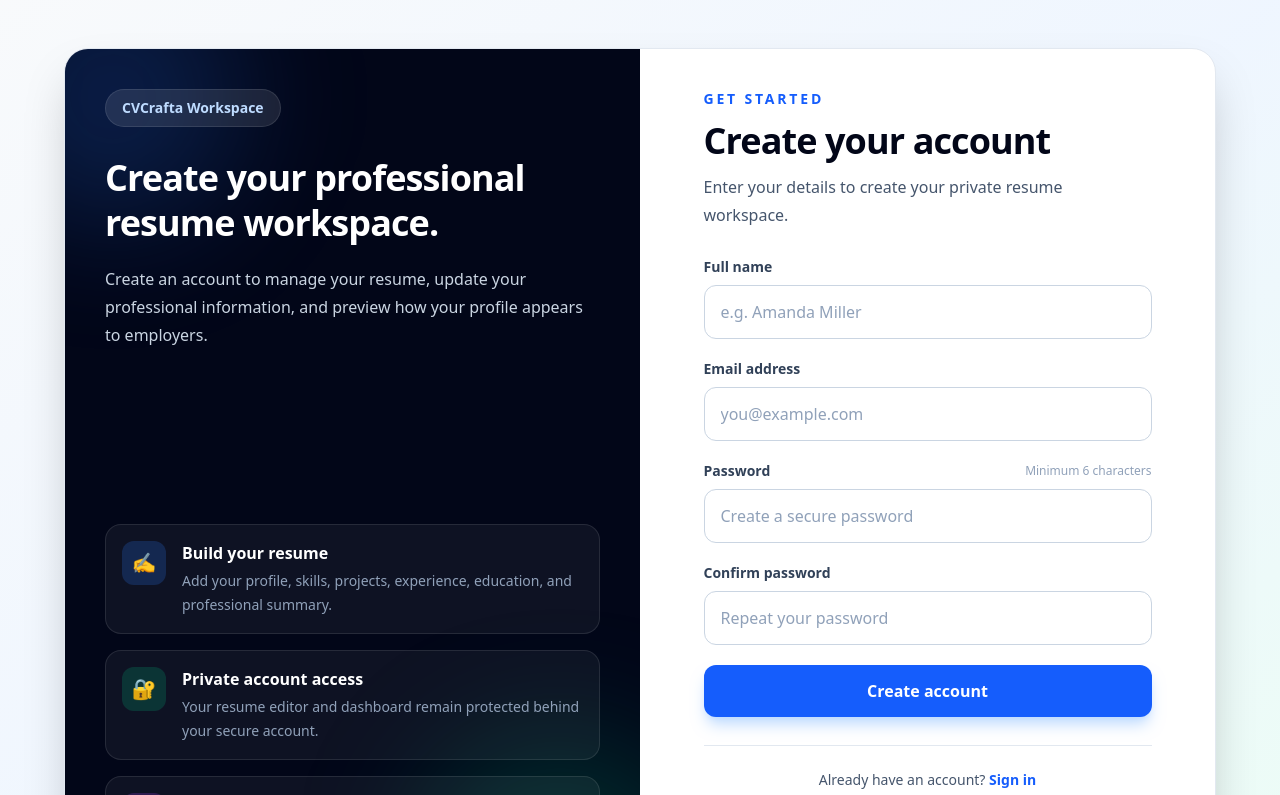
Test case: RegisterPage › opens confirmation recovery when initial delivery does not arrive
This screenshot has width=1280, height=795.
Type "Test User" into the field labelled "Full name" at (928, 312), box [704,285,1152,339]
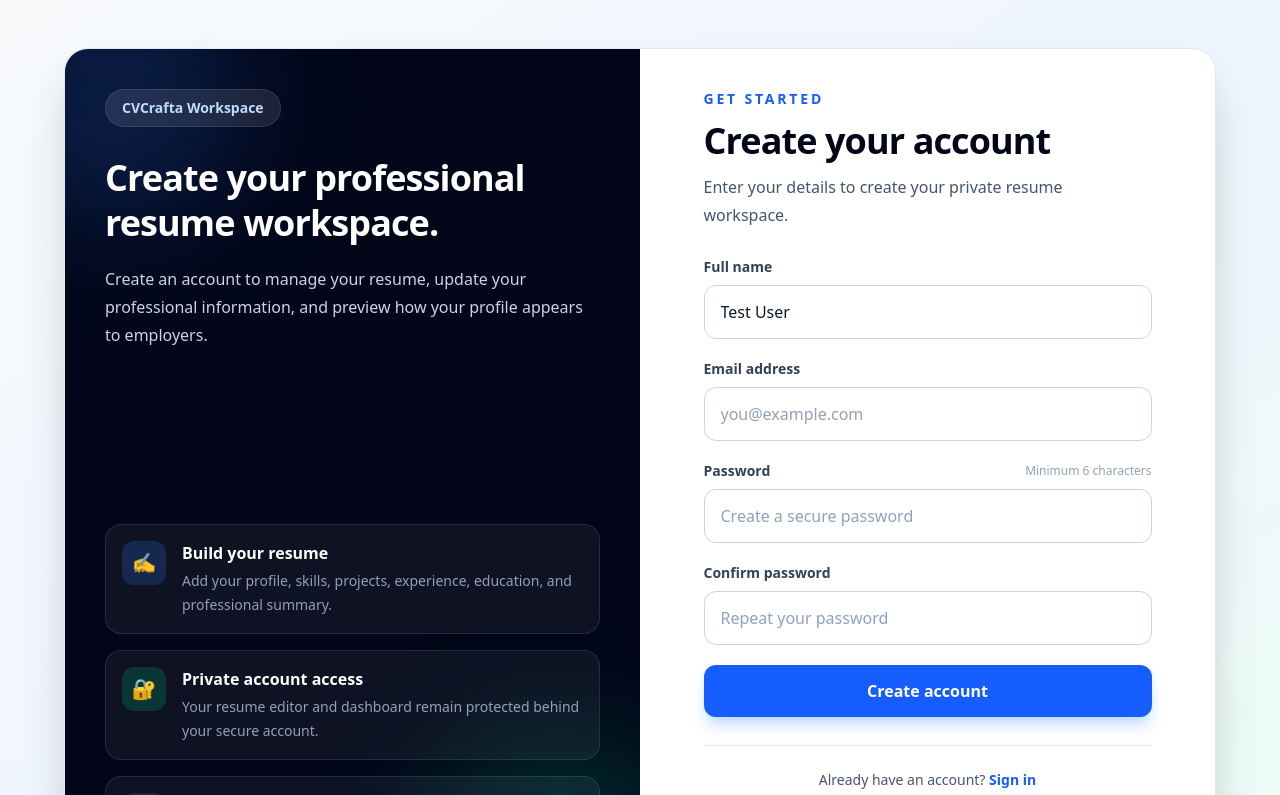
Type "user@example.com" into the field labelled "Email address" at (928, 414), box [704,387,1152,441]
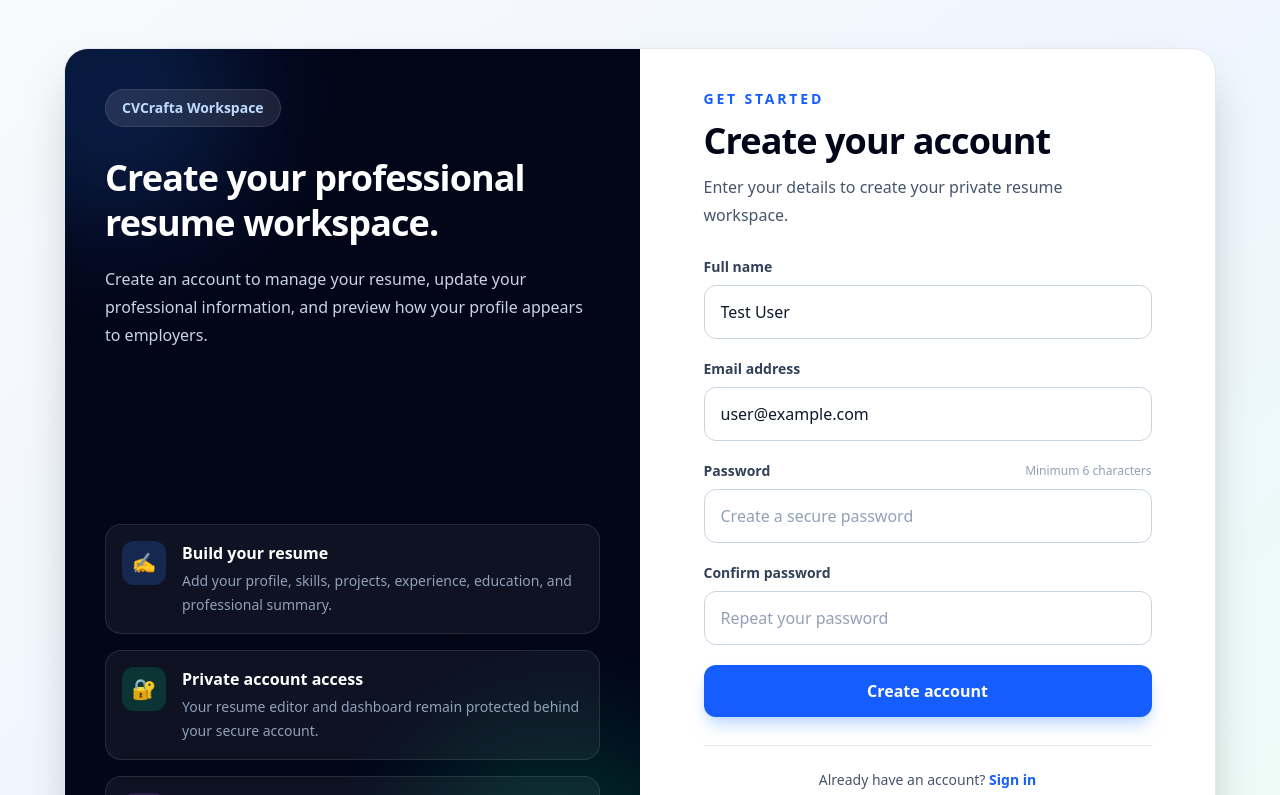
Type "Password123!" into the password field labelled "Password" at (928, 516), box [704,489,1152,543]
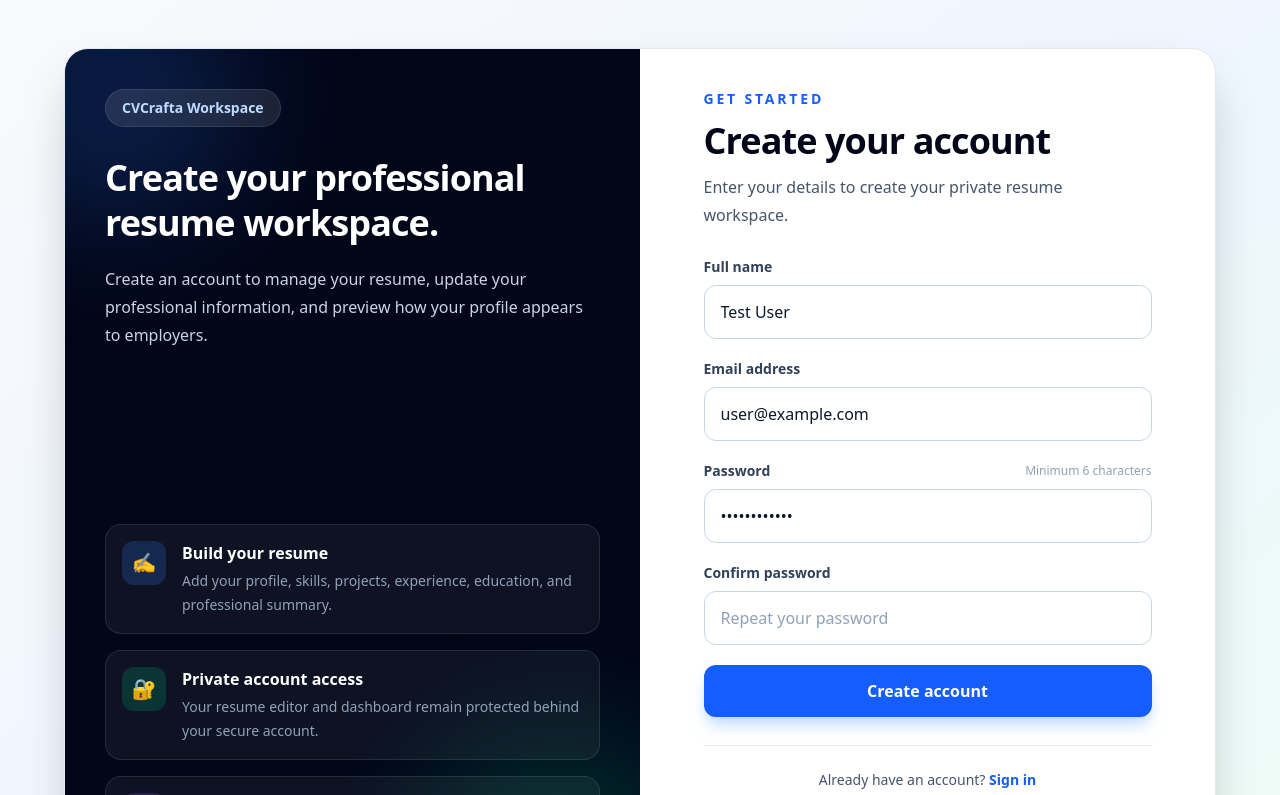
Type "Password123!" into the password field labelled "Confirm password" at (928, 618), box [704,591,1152,645]
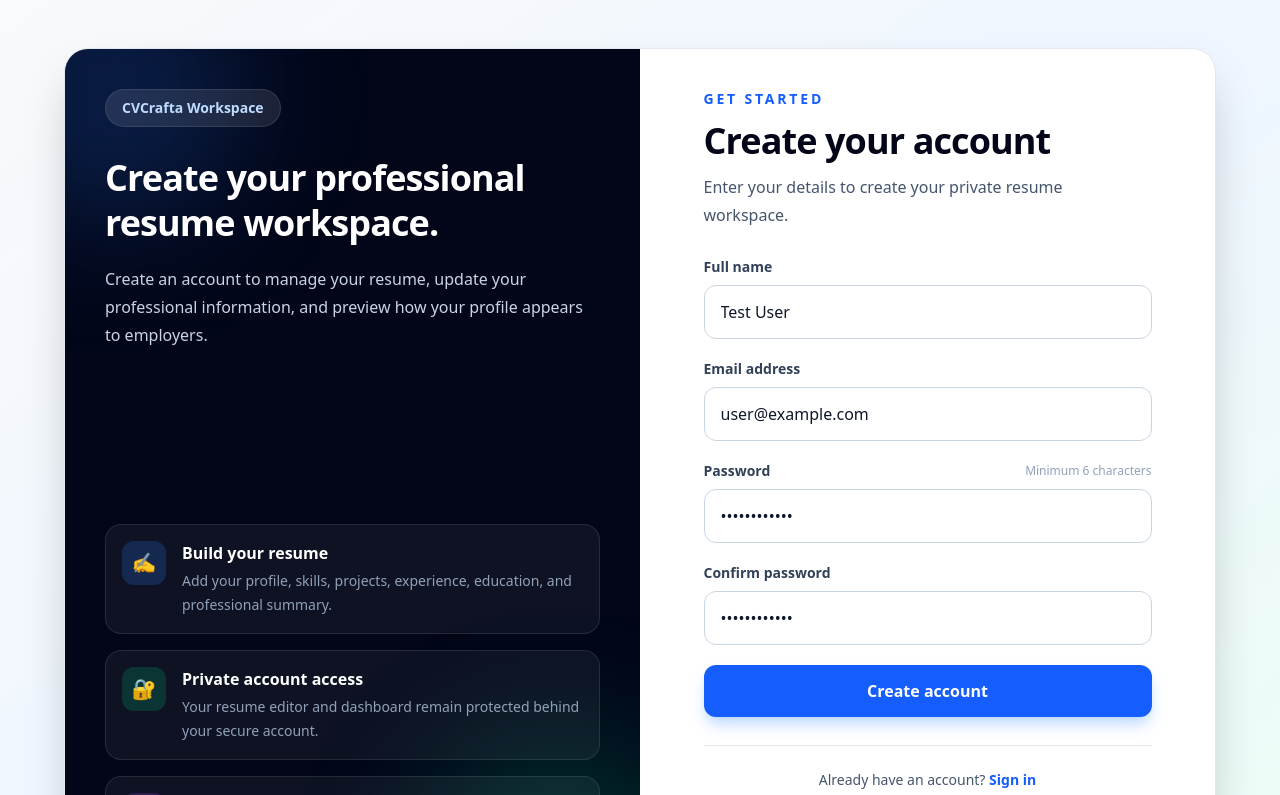
Submit the form named "Create account", box [704,257,1152,717]
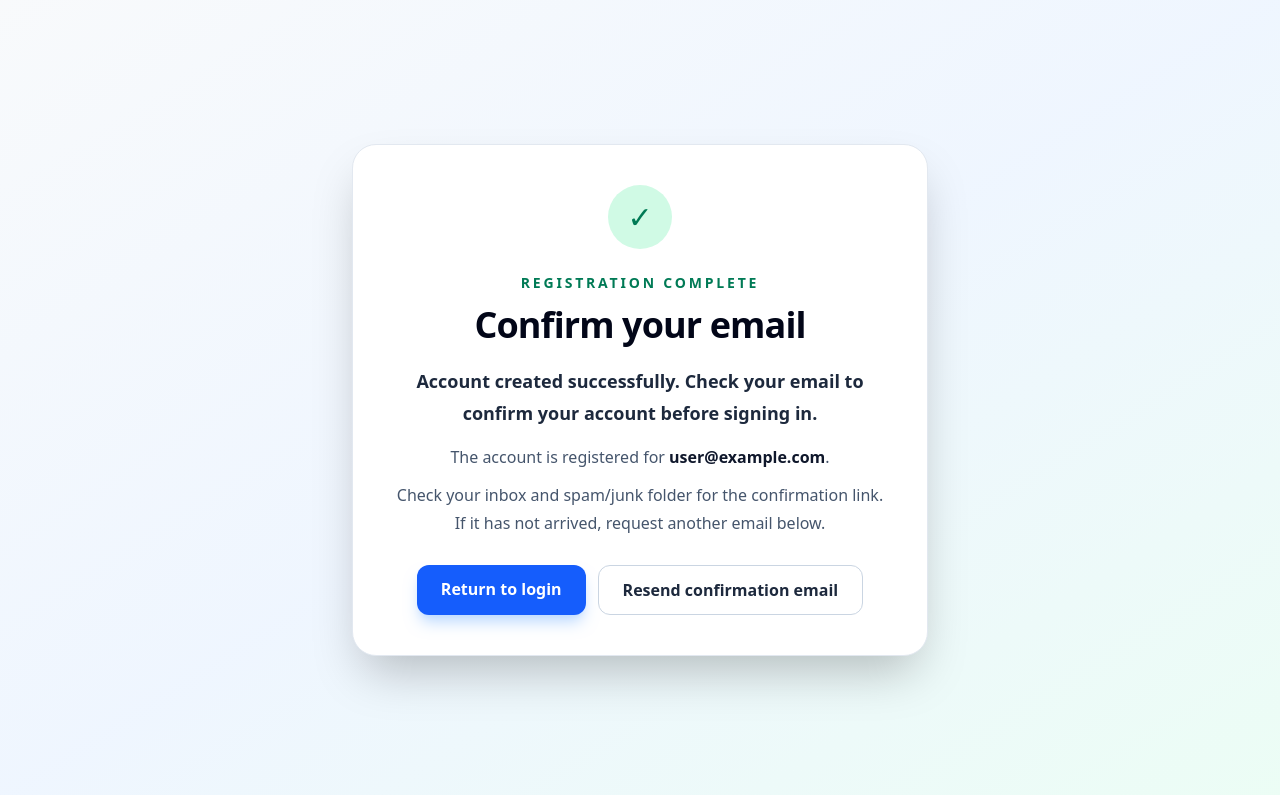
expect the heading "Confirm your email" is shown: met, box [474,300,806,349]
expect the text "user@example.com" is shown: met, box [669,446,825,468]
expect the button "Resend confirmation email" is enabled: met, box [598,565,863,615]
